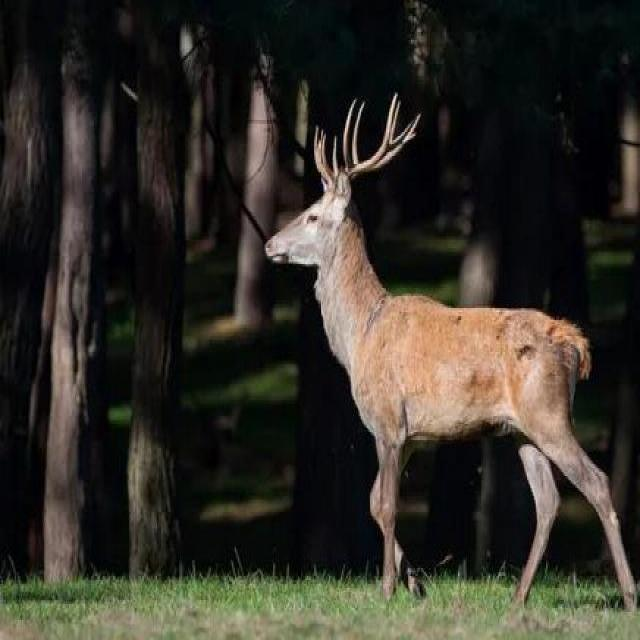deer: (242, 89, 614, 538)
